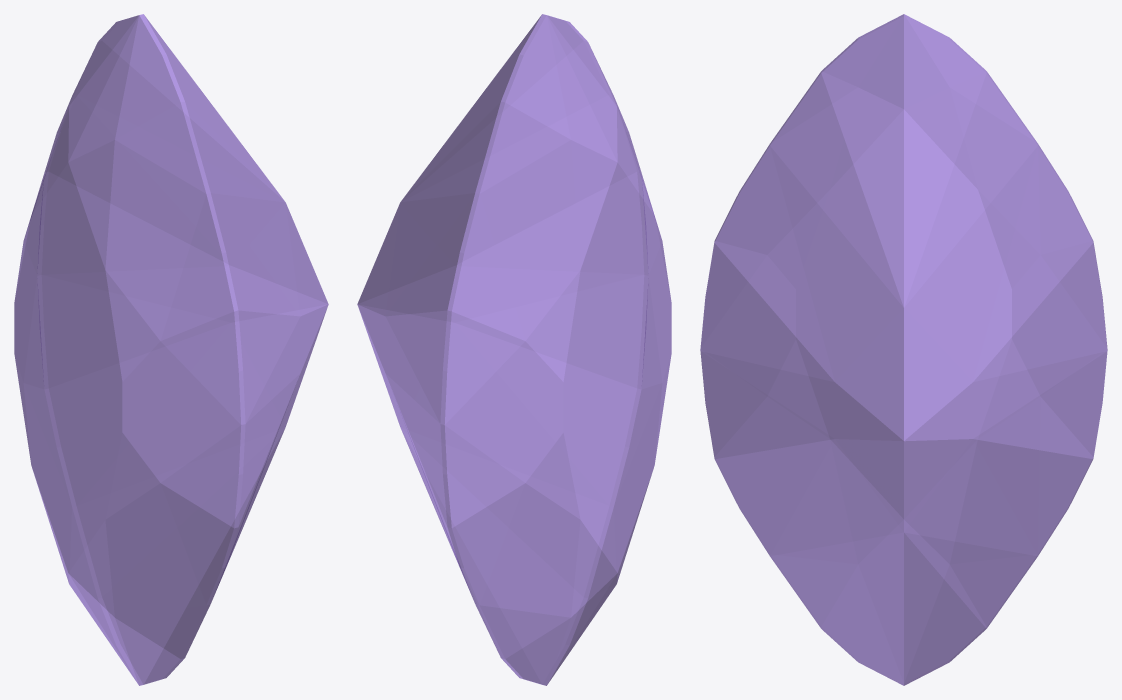
The model's file is marquise ametiste.glb.
The picture shows the model from 3 angles, left to right: view 1: azimuth 30°, elevation 25°; view 2: azimuth 150°, elevation 25°; view 3: azimuth 270°, elevation 25°; orthographic projection.
Parts seen in each view (by area): view 1: Marquise; view 2: Marquise; view 3: Marquise.
Part boxes in pixels (box(x1,y1,x2,y2)): Marquise: box(14, 14, 328, 685); Marquise: box(357, 14, 671, 685); Marquise: box(700, 14, 1107, 685).
Bounding box in the file's own units: 0.8446 × 2.08 × 1.15.
